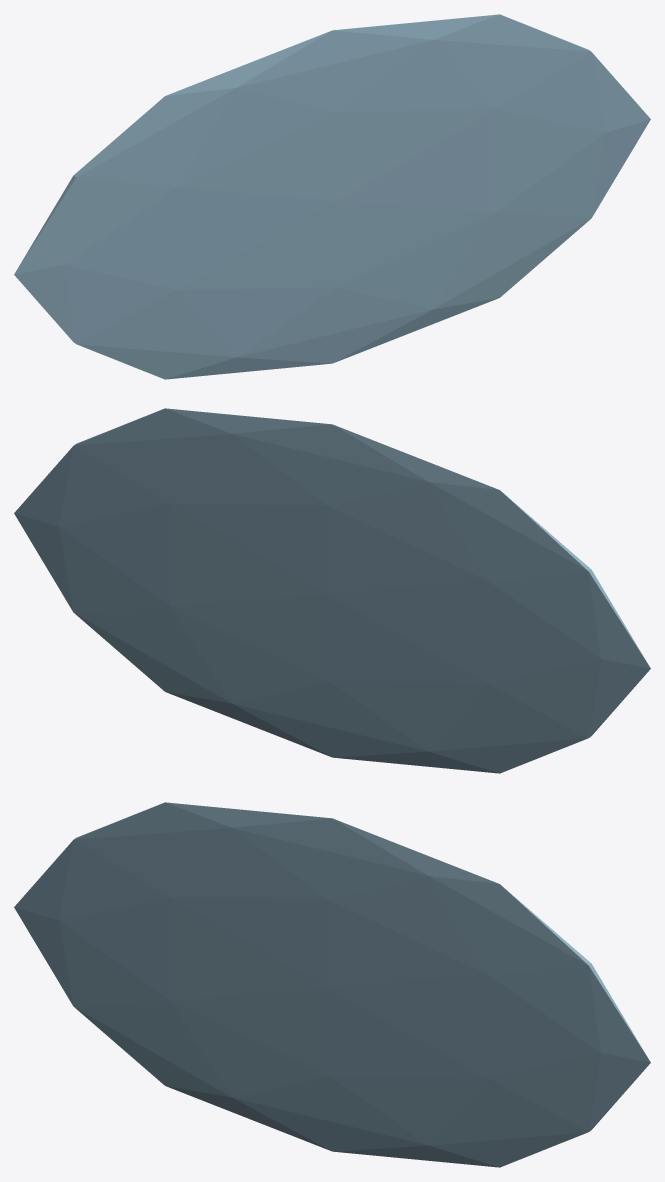
The model's file is env_water_puddle.glb.
The picture shows the model from 3 angles, top to bottom: view 1: azimuth 30°, elevation 25°; view 2: azimuth 150°, elevation 25°; view 3: azimuth 330°, elevation 25°; orthographic projection.
Visible parts, largest first — view 1: puddle; view 2: puddle; view 3: puddle.
Part boxes in pixels (x1,y1,x2,y2): puddle: (14,14,650,379); puddle: (14,408,650,773); puddle: (14,802,650,1167).
Bounding box in the file's own units: 1.6 × 0.8 × 0.04.
